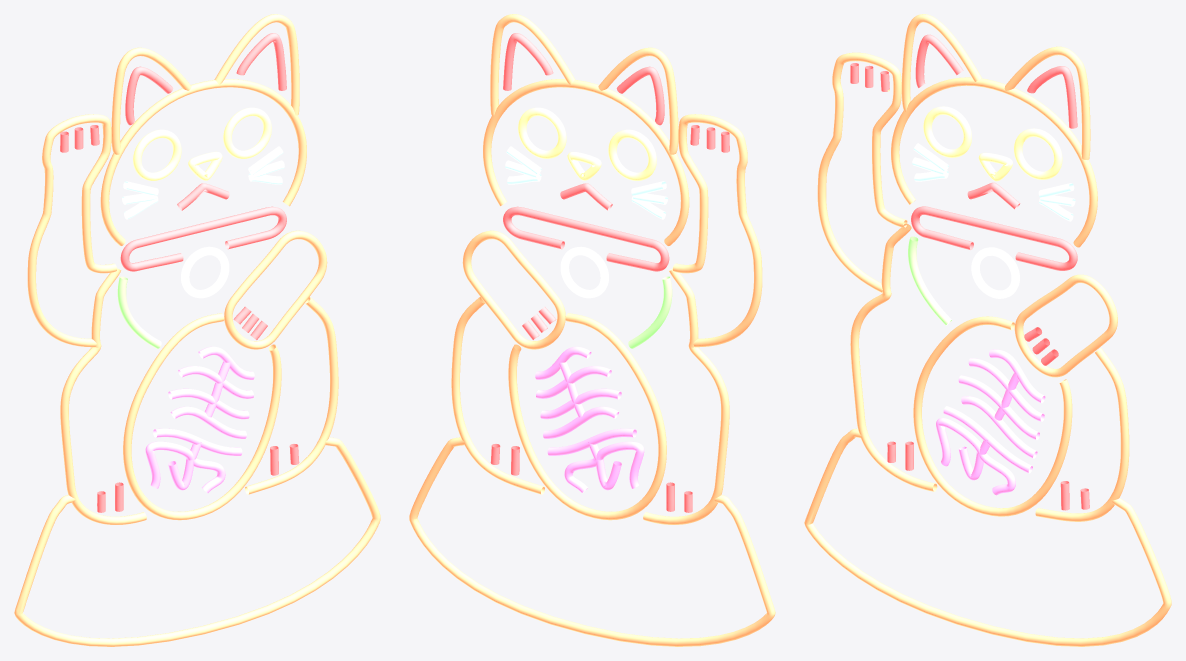
The model's file is cat-light-sign.glb.
3 views of the same model, side by side, from view 1: azimuth 30°, elevation 25°; view 2: azimuth 150°, elevation 25°; view 3: azimuth 330°, elevation 25° (orthographic).
Visible parts, largest first — view 1: Object_74; view 2: Object_74; view 3: Object_74.
Boxes of the visible parts, x1=… form: Object_74: x1=14, y1=14, x2=380, y2=646; Object_74: x1=409, y1=14, x2=775, y2=646; Object_74: x1=804, y1=14, x2=1171, y2=646.
Size of the model in its own units: 5.07 by 7.99 by 0.1029.
